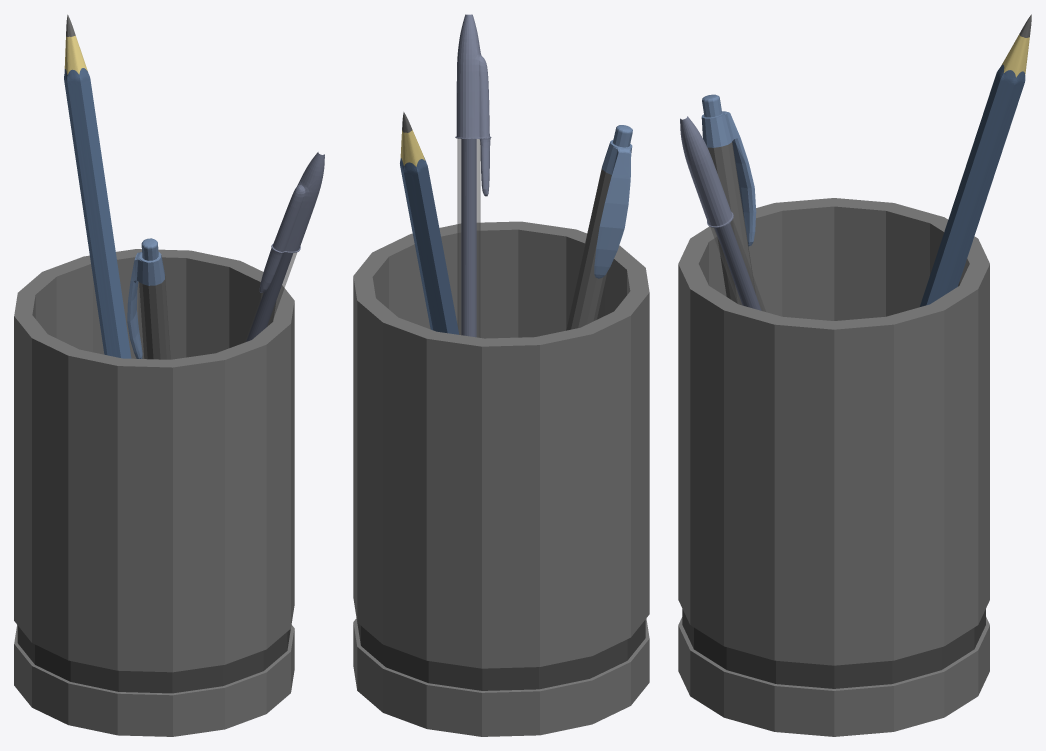
Rendered from sweethome3d-scopia-penbox.glb.
3 views of the same model, side by side, from view 1: azimuth 30°, elevation 25°; view 2: azimuth 150°, elevation 25°; view 3: azimuth 270°, elevation 25° (orthographic). The views are drawn at different scales.
Parts seen in each view (by area): view 1: 1_1_1, 1_1_3_3, 2_2_2, 11_11, simplepen_Tube_12_12, simplepen_Tube72_13_13, 6_6, 9_9, 2_2_4_4; view 2: 1_1_1, 2_2_2, 1_1_3_3, 6_6, 11_11, simplepen_Tube72_13_13, 9_9, simplepen_Tube_12_12, 2_2_4_4; view 3: 1_1_1, 1_1_3_3, 2_2_2, simplepen_Tube72_13_13, 11_11, simplepen_Tube_12_12, 6_6, 9_9, 2_2_4_4.
Boxes of the visible parts, <box> form: 1_1_1: <box>14,249,294,736</box>; 1_1_3_3: <box>64,68,131,358</box>; 2_2_2: <box>17,625,290,693</box>; 11_11: <box>259,152,324,292</box>; simplepen_Tube_12_12: <box>139,276,170,359</box>; simplepen_Tube72_13_13: <box>127,238,164,358</box>; 6_6: <box>242,252,296,343</box>; 9_9: <box>246,252,293,341</box>; 2_2_4_4: <box>64,35,87,74</box>; 1_1_1: <box>353,221,649,736</box>; 2_2_2: <box>357,619,645,690</box>; 1_1_3_3: <box>400,157,459,334</box>; 6_6: <box>457,138,480,337</box>; 11_11: <box>455,14,491,196</box>; simplepen_Tube72_13_13: <box>594,125,632,278</box>; 9_9: <box>461,139,476,337</box>; simplepen_Tube_12_12: <box>566,168,611,330</box>; 2_2_4_4: <box>400,130,424,166</box>; 1_1_1: <box>678,198,989,736</box>; 1_1_3_3: <box>920,65,1025,306</box>; 2_2_2: <box>682,609,985,688</box>; simplepen_Tube72_13_13: <box>701,94,756,246</box>; 11_11: <box>680,116,733,241</box>; simplepen_Tube_12_12: <box>708,142,755,304</box>; 6_6: <box>710,219,765,311</box>; 9_9: <box>715,223,761,310</box>; 2_2_4_4: <box>1001,34,1029,77</box>.
Bounding box in the file's own units: 7.28 × 17 × 8.26.
Materials: 13 (1 with a texture image).
